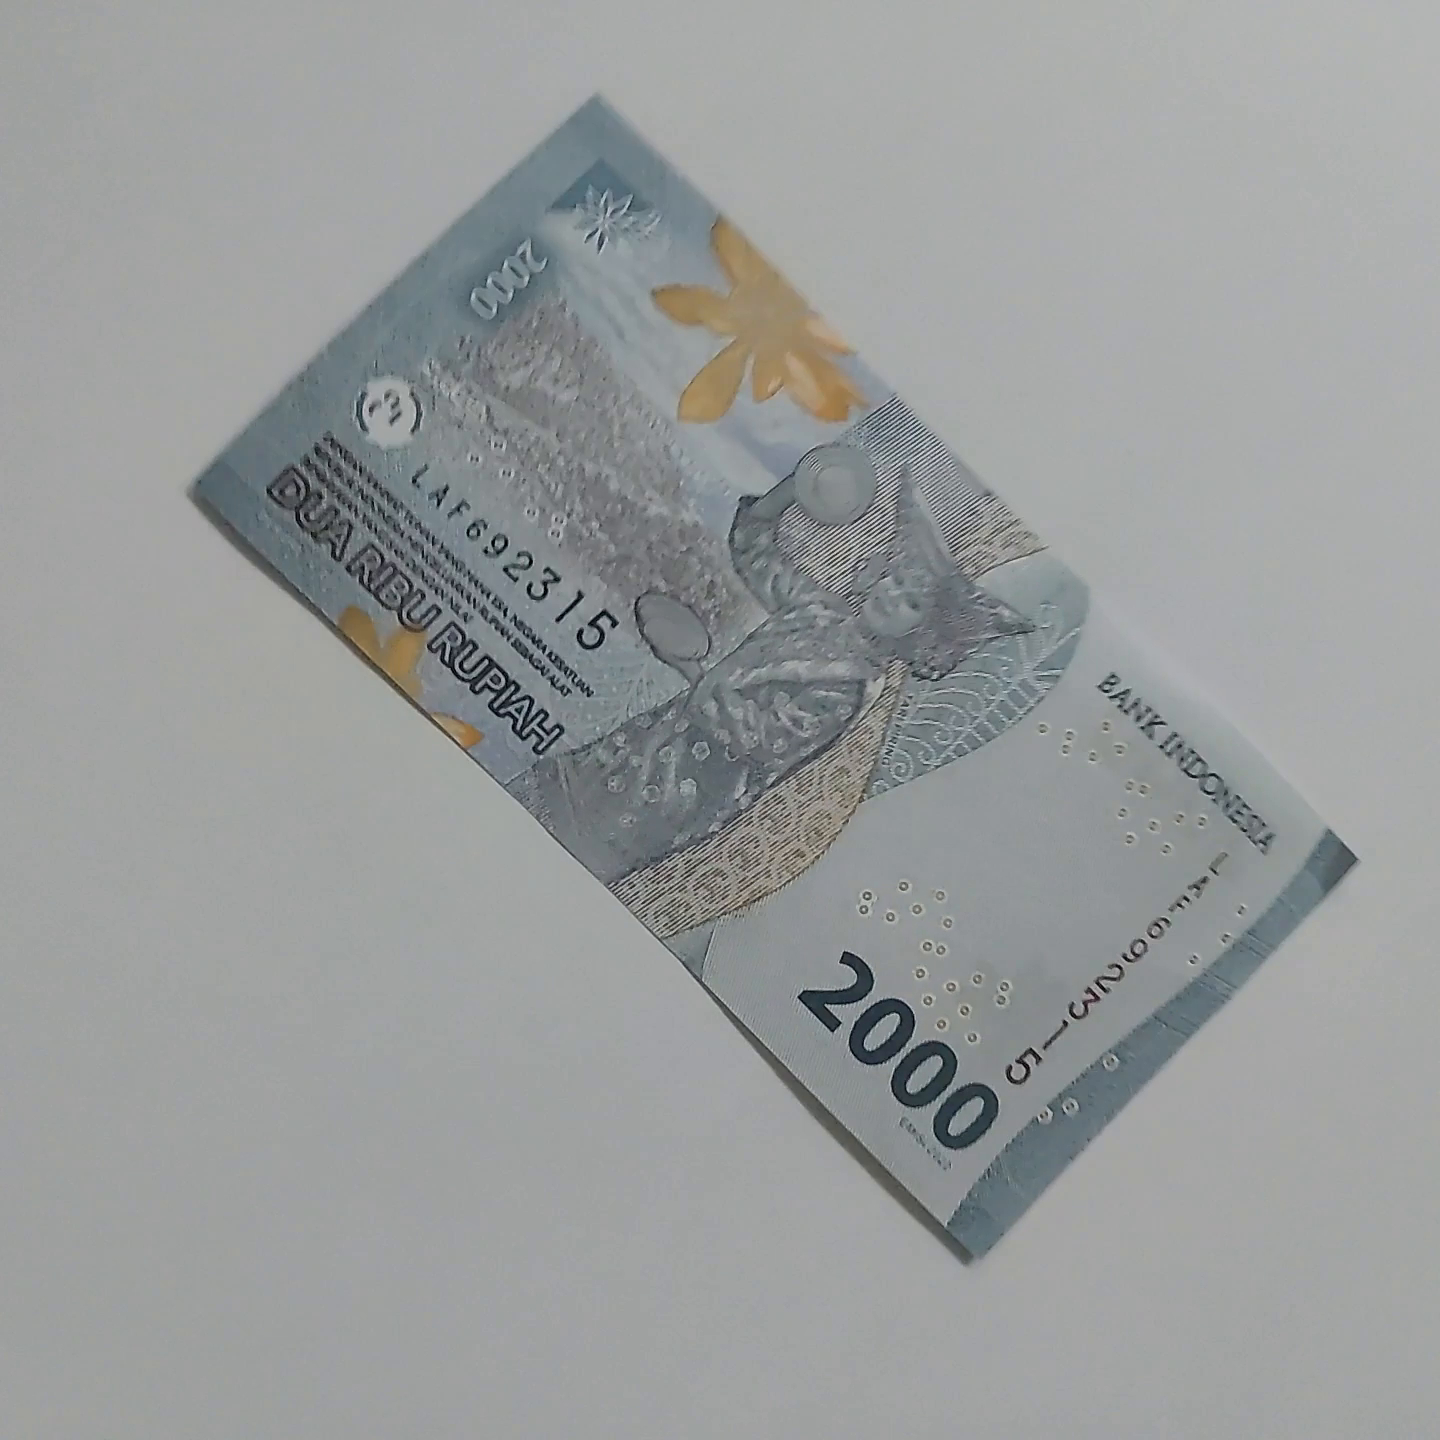2k: (113, 491, 775, 1440)
